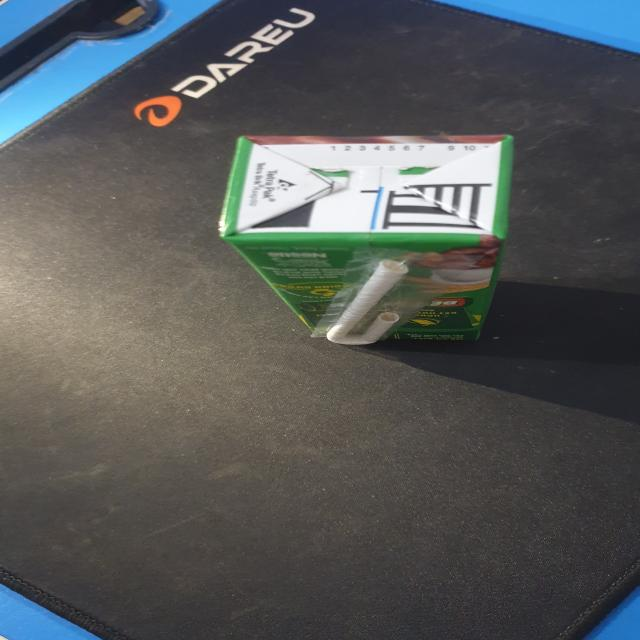Milo: (216, 133, 518, 347)
